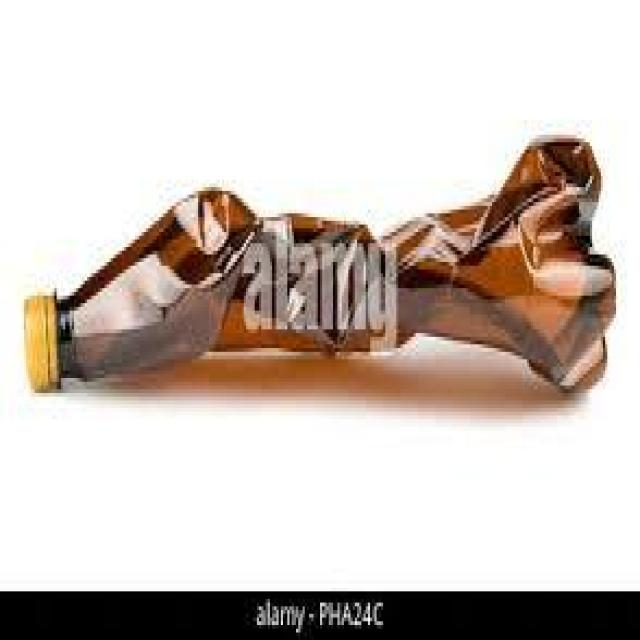plastic: (25, 137, 623, 398)
